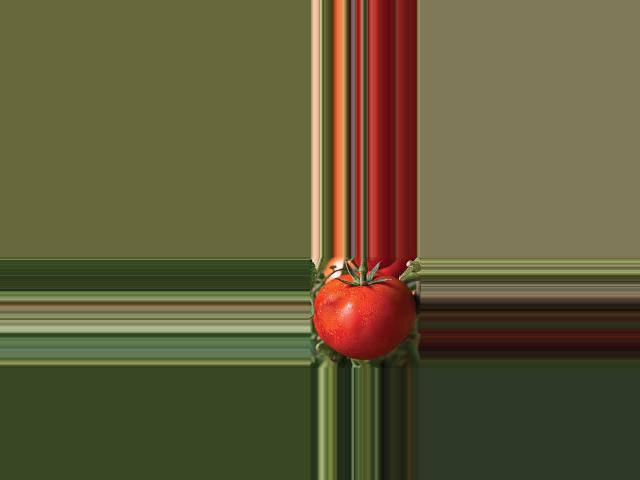tomato: (313, 272, 414, 359)
